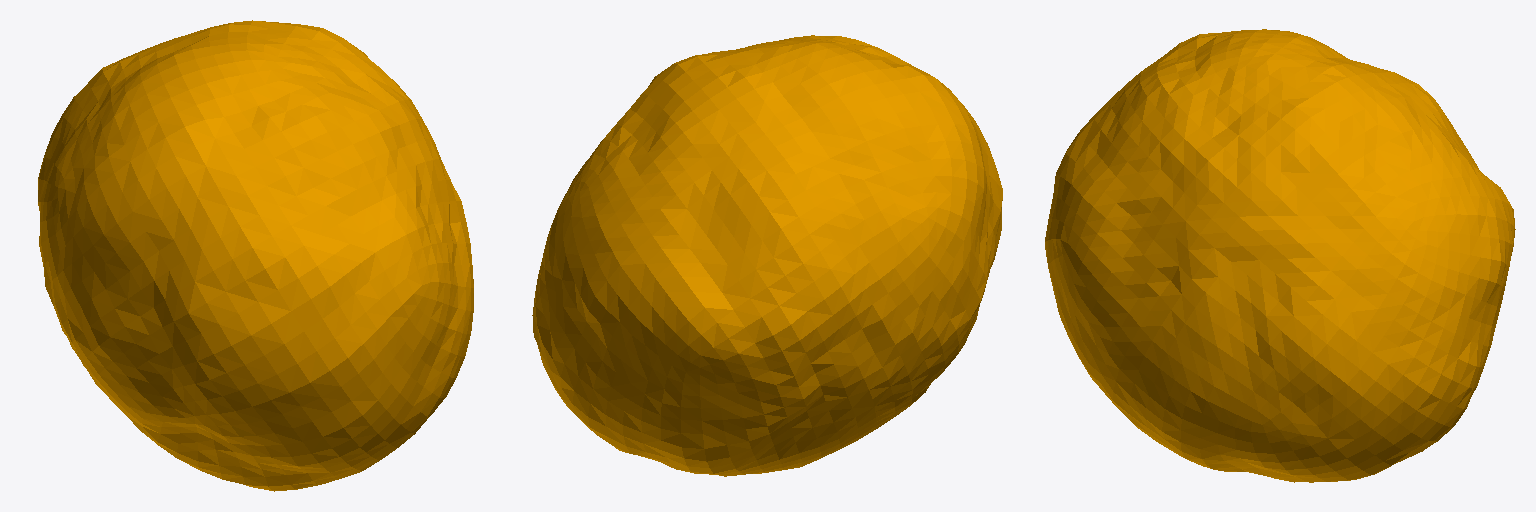
The robot description file, URDF, robot "rock":
<?xml version="1.0" ?>
<robot name="rock">
  <link name="rock">
    <inertial>
      <mass value="0.219"/>
      <origin rpy="0 0 0" xyz="0 0 0"/>
      <inertia ixx="0.000219" ixy="0" ixz="0" iyy="0.000219" iyz="0" izz="0.000219"/>
    </inertial>
    <collision name="rock_collision">
      <origin rpy="0 0 0" xyz="0 0 0"/>
      <geometry>
        <mesh filename="package://rocks/visual/220.dae" scale="1 1 1"/>
      </geometry>
    </collision>
    <visual name="rock_visual">
      <origin rpy="0 0 0" xyz="0 0 0"/>
      <geometry>
        <mesh filename="package://rocks/visual/220.dae" scale="1 1 1"/>
      </geometry>
    </visual>
  </link>
</robot>

--- Render facts (derived) ---
The picture shows the robot from 3 angles, left to right: view 1: azimuth 30°, elevation 25°; view 2: azimuth 150°, elevation 25°; view 3: azimuth 270°, elevation 25°; orthographic projection.
Model rock with 1 links and 0 joints (none), rooted at rock, posed all joints at 0.
Links seen in each view (by area): view 1: rock; view 2: rock; view 3: rock.
Boxes of the visible links, bbox=[...] form: rock: bbox=[38, 20, 473, 491]; rock: bbox=[532, 35, 1002, 476]; rock: bbox=[1045, 29, 1515, 482].
Size in the robot's own frame: 0.085 by 0.0935 by 0.0874 metres.
1 mesh visuals loaded from 1 distinct referenced files (1 Collada DAE).